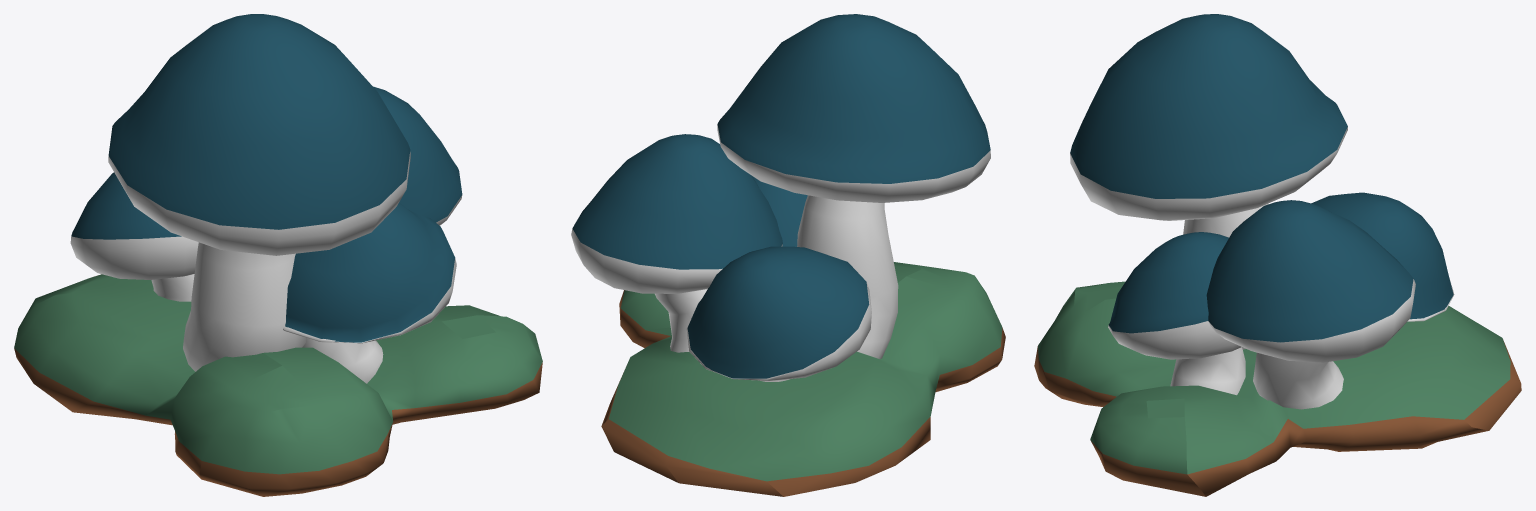
The model's file is mushroomsGroup.fbx.
3 views of the same model, side by side, from view 1: azimuth 30°, elevation 25°; view 2: azimuth 150°, elevation 25°; view 3: azimuth 270°, elevation 25° (orthographic). The views are drawn at different scales.
Visible parts, largest first — view 1: mushroom, moss, mushroom.001, mushroom.002, mushroom.003; view 2: moss, mushroom, mushroom.003, mushroom.002, mushroom.001; view 3: moss, mushroom, mushroom.003, mushroom.001, mushroom.002.
Boxes of the visible parts, bbox=[...] form: mushroom: bbox=[108, 14, 410, 371]; moss: bbox=[14, 274, 542, 496]; mushroom.001: bbox=[283, 203, 456, 383]; mushroom.002: bbox=[70, 172, 198, 301]; mushroom.003: bbox=[373, 86, 462, 225]; moss: bbox=[601, 262, 1005, 496]; mushroom: bbox=[717, 14, 990, 358]; mushroom.003: bbox=[571, 134, 782, 352]; mushroom.002: bbox=[686, 246, 871, 381]; mushroom.001: bbox=[752, 176, 807, 246]; moss: bbox=[1034, 281, 1521, 496]; mushroom: bbox=[1070, 14, 1347, 349]; mushroom.003: bbox=[1206, 200, 1415, 409]; mushroom.001: bbox=[1108, 232, 1245, 395]; mushroom.002: bbox=[1311, 192, 1454, 321].
Bounding box in the file's own units: 83.32 × 79.54 × 95.84.
